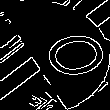O_SW: (12, 25, 98, 85)
